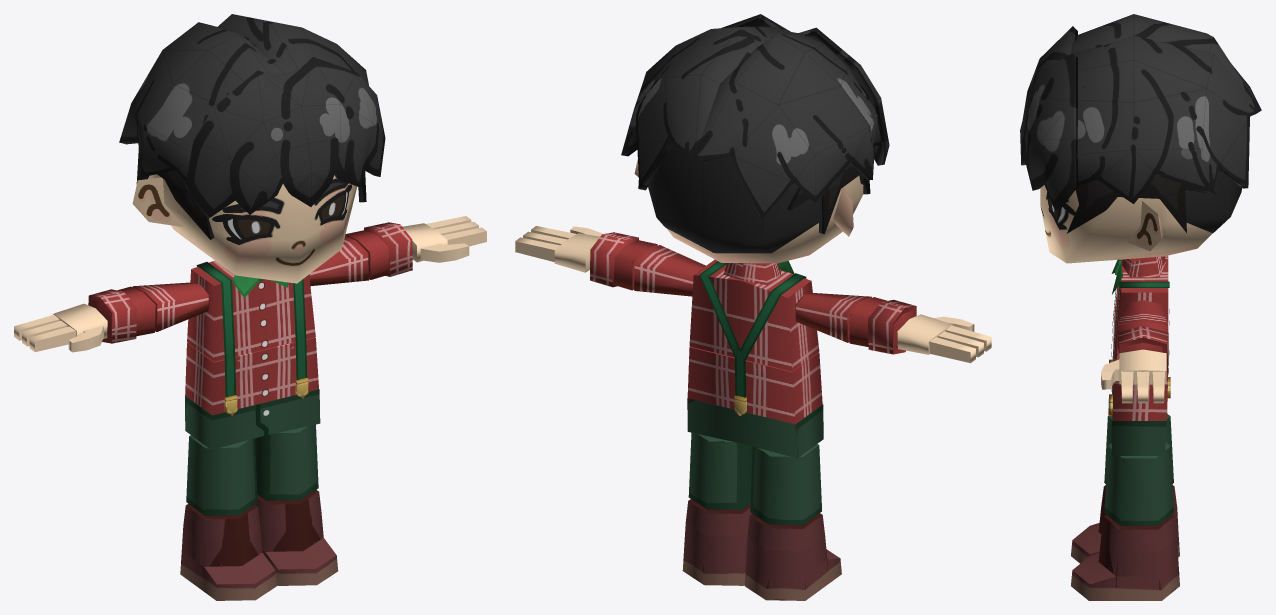
The model's file is christmasboy.fbx.
3 views of the same model, side by side, from view 1: azimuth 30°, elevation 25°; view 2: azimuth 150°, elevation 25°; view 3: azimuth 270°, elevation 25° (orthographic).
Visible parts, largest first — view 1: v1.6 kid base.003, boy hair, head; view 2: v1.6 kid base.003, boy hair, head; view 3: boy hair, v1.6 kid base.003, head.
Boxes of the visible parts, x1,y1,x2,y2 form: v1.6 kid base.003: (14, 216, 486, 600); boy hair: (119, 14, 385, 239); head: (132, 174, 356, 283); v1.6 kid base.003: (515, 226, 991, 600); boy hair: (621, 14, 889, 253); head: (634, 159, 863, 263); boy hair: (1020, 14, 1261, 233); v1.6 kid base.003: (1071, 255, 1179, 600); head: (1040, 185, 1212, 263).
Size of the model in its own units: 3.53 by 4.03 by 1.63.
3 materials, 3 textured.
